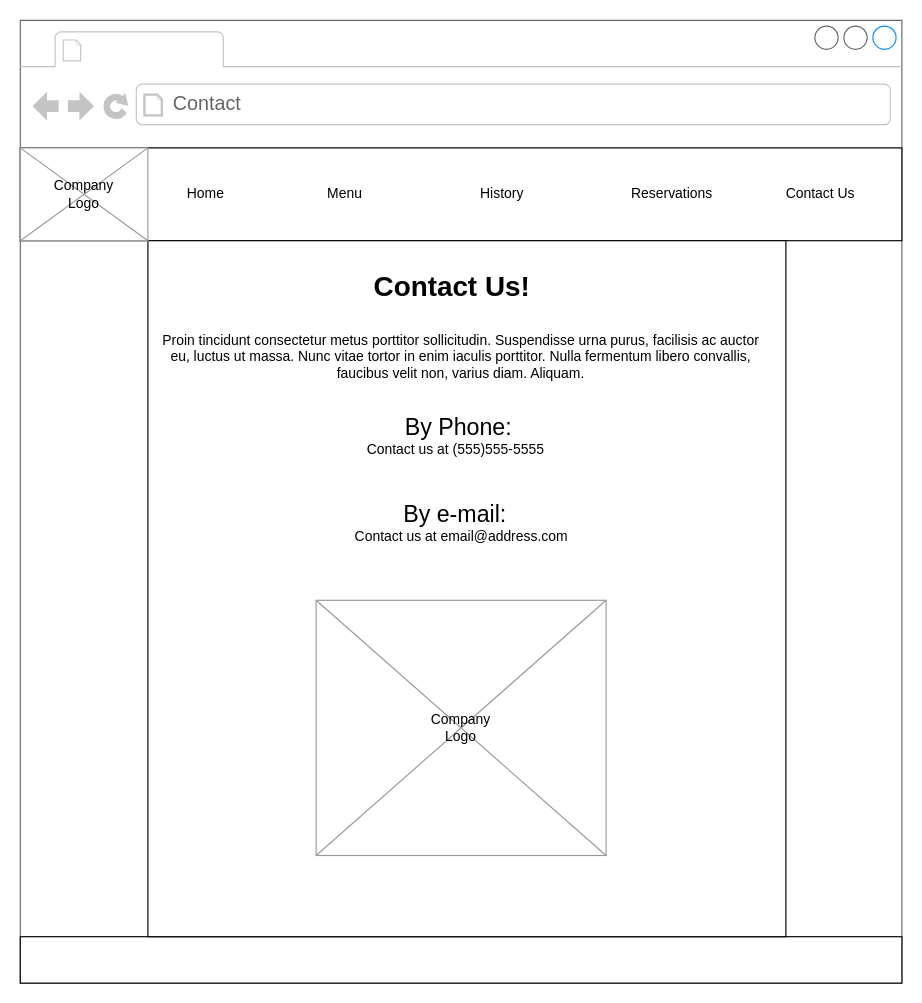
Some shapes in this 922 by 1003 pixel diagram are drawn without their labels. The shapes that lost their labels are listed below. From the top down, each one's centre as x and y in pixels, then its label:
At point 153,48: "Page 1".
At point 460,959: "Company phone # . Address .".
